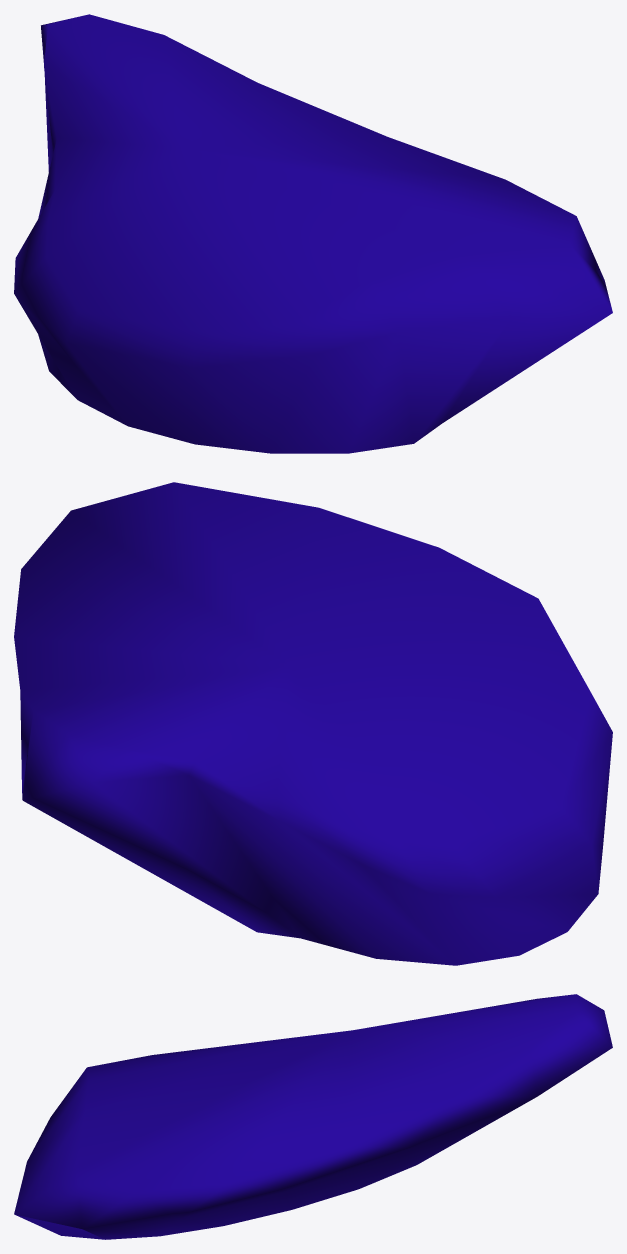
The model's file is CG_Model_TownExt_Rock6_Mar24_ChrisMcknight.FBX.
3 renders of one model, top to bottom at view 1: azimuth 30°, elevation 25°; view 2: azimuth 150°, elevation 25°; view 3: azimuth 270°, elevation 25°, orthographic. The views are drawn at different scales.
Parts seen in each view (by area): view 1: Sphere008; view 2: Sphere008; view 3: Sphere008.
Part boxes in pixels (box(x1,y1,x2,y2)): Sphere008: box(14, 14, 612, 453); Sphere008: box(14, 482, 612, 965); Sphere008: box(14, 994, 612, 1239).
Bounding box in the file's own units: 22.63 × 10.95 × 29.8.
